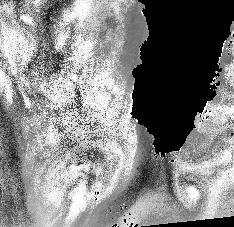CE: (170, 170, 213, 212)
